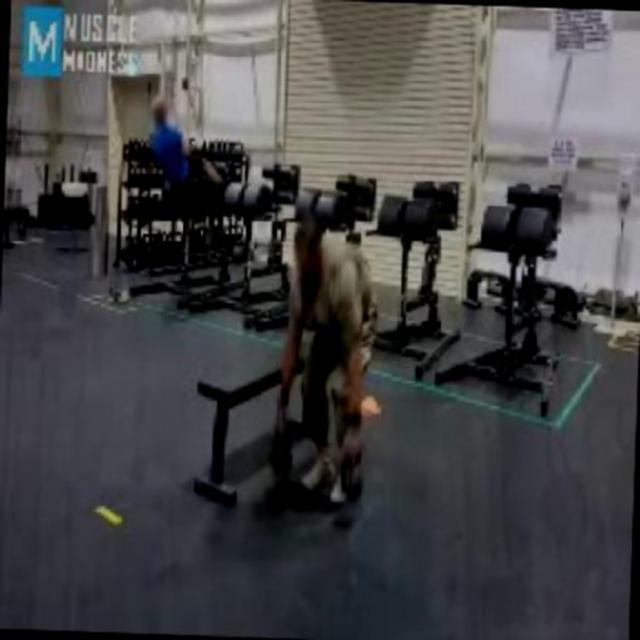non-fight: (266, 214, 385, 506)
